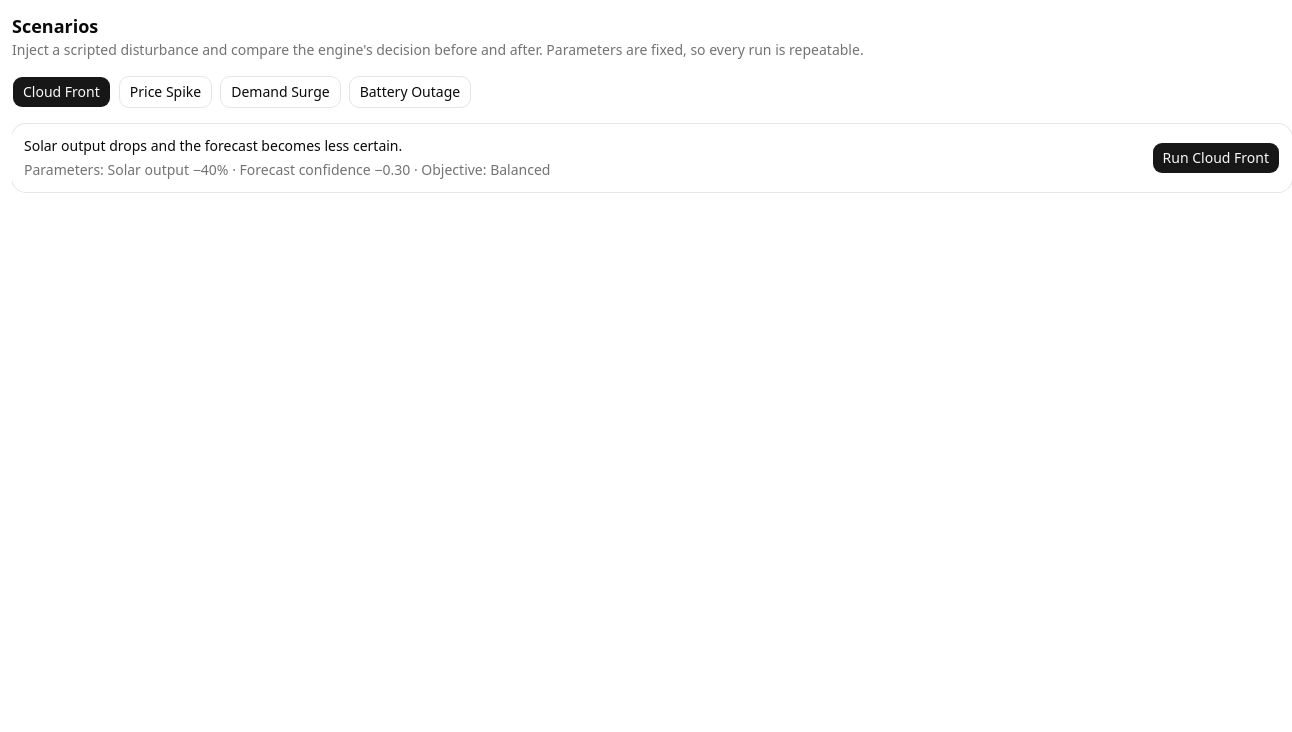
Test: ScenarioPanel › runs a scenario and shows the before/after comparison
The width and height of the screenshot is (1292, 732).
Click the button "Run Cloud Front": [1216, 158] box x1=1152 y1=142 x2=1280 y2=174
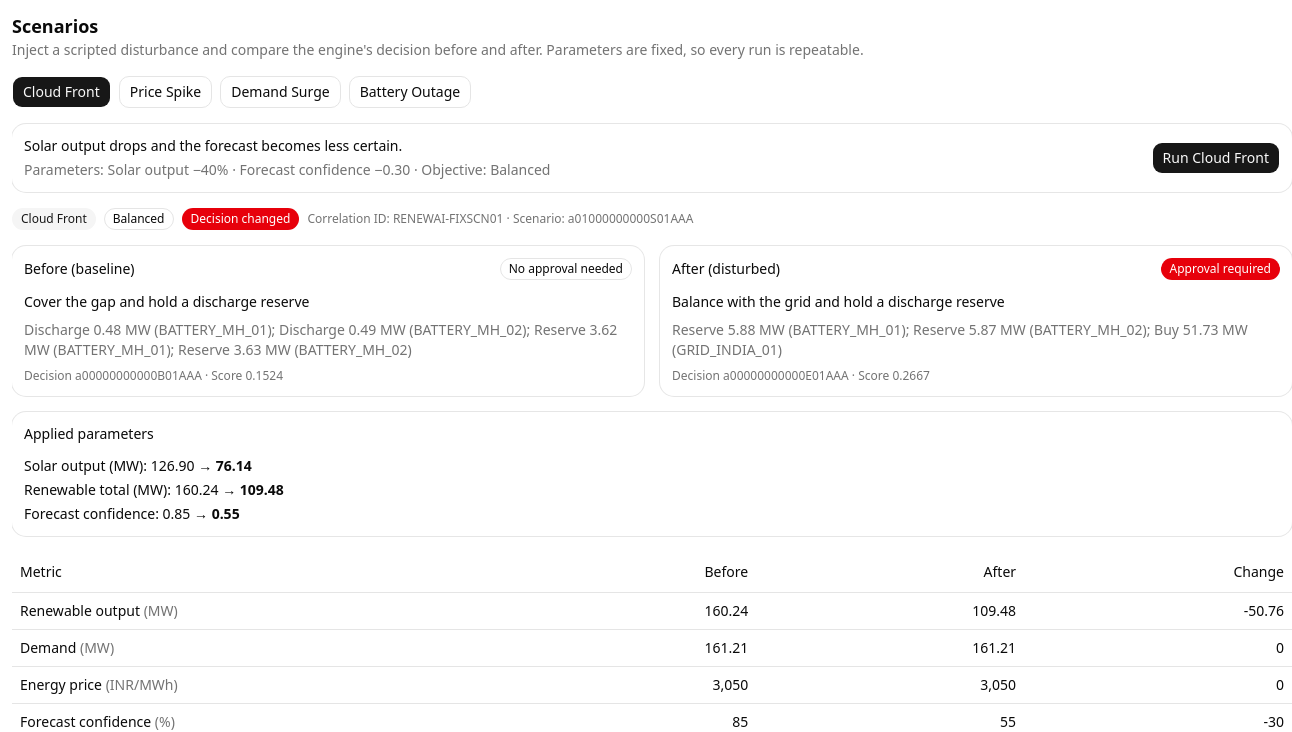
expect the text with test id "decision-changed" reads "Decision changed": met, box x1=190 y1=210 x2=290 y2=227
expect the text "Before (baseline)" is shown: met, box x1=24 y1=259 x2=135 y2=279
expect the text "After (disturbed)" is shown: met, box x1=672 y1=259 x2=780 y2=279
